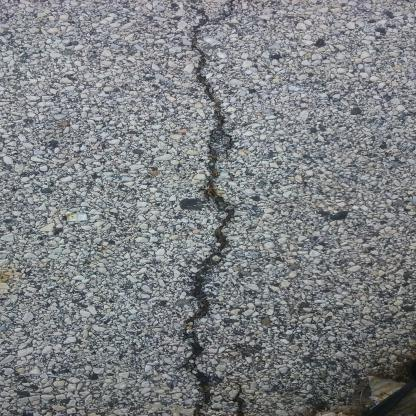Cracks: (162, 8, 249, 415)
